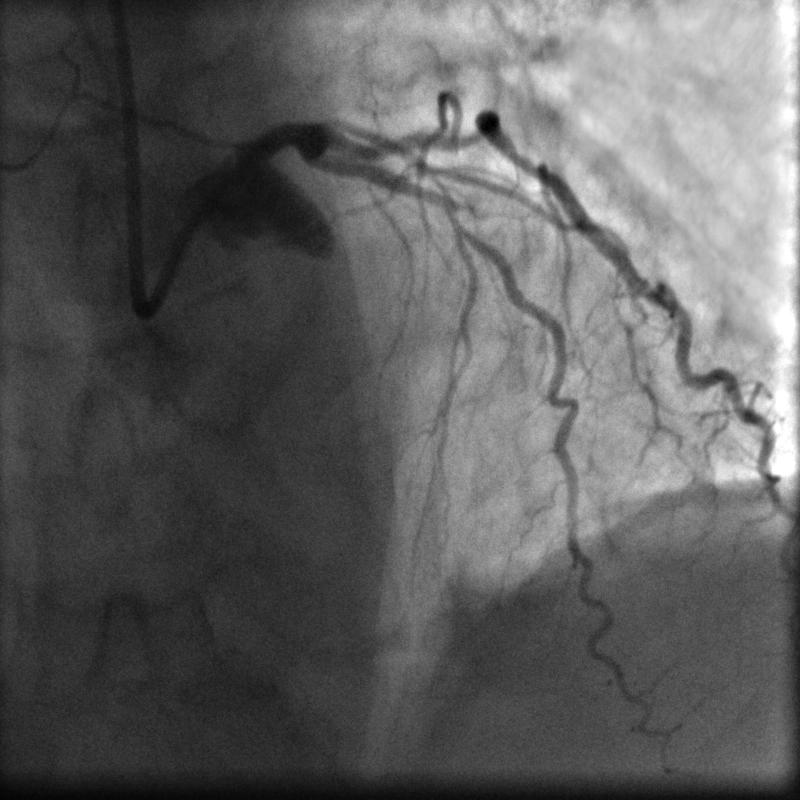Stenosis: (408, 171, 460, 224)
